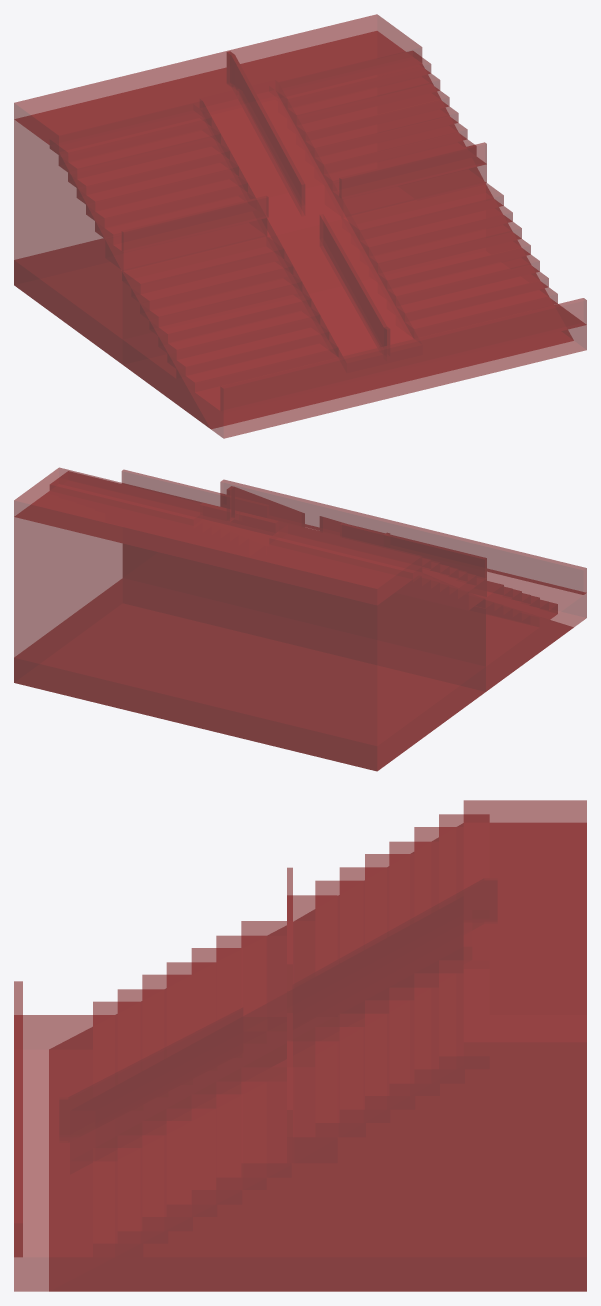
File: SM_Bld_Grandstand_01_Collision.fbx
The picture shows the model from 3 angles, top to bottom: view 1: azimuth 30°, elevation 25°; view 2: azimuth 150°, elevation 25°; view 3: azimuth 270°, elevation 25°; orthographic projection. The views are drawn at different scales.
Parts seen in each view (by area): view 1: SM_Bld_Grandstand_01_Collision; view 2: SM_Bld_Grandstand_01_Collision; view 3: SM_Bld_Grandstand_01_Collision.
Boxes of the visible parts, <box> form: SM_Bld_Grandstand_01_Collision: <box>14,14,586,438</box>; SM_Bld_Grandstand_01_Collision: <box>14,467,586,771</box>; SM_Bld_Grandstand_01_Collision: <box>14,800,586,1291</box>.
Bounding box in the file's own units: 1250 × 701 × 1250.
